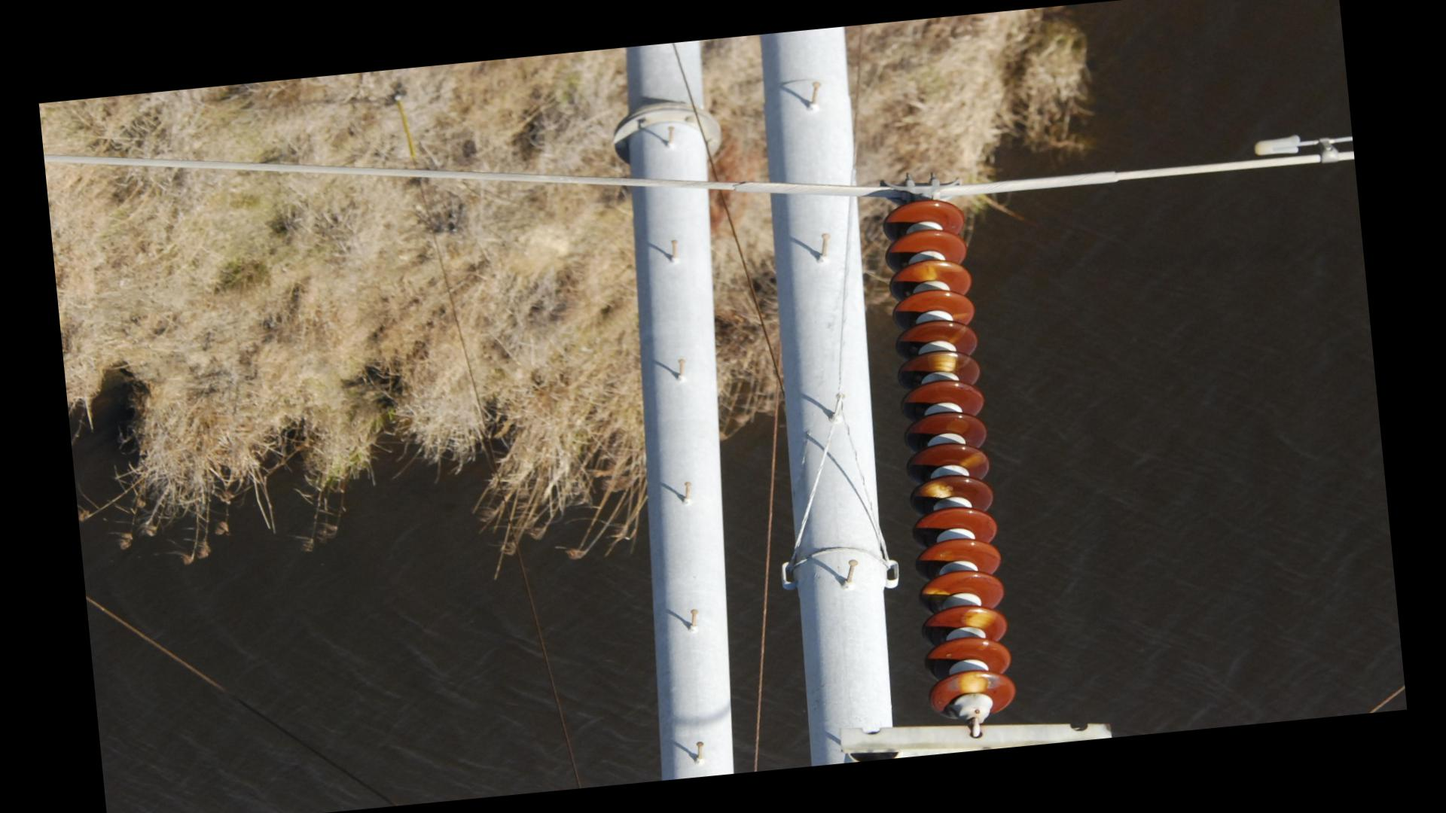damper: (1246, 123, 1355, 178)
